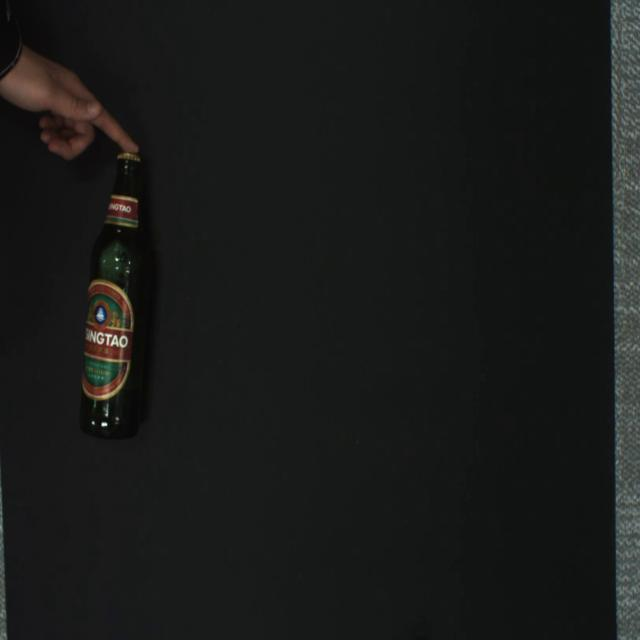beer-bottle: (79, 153, 151, 441)
